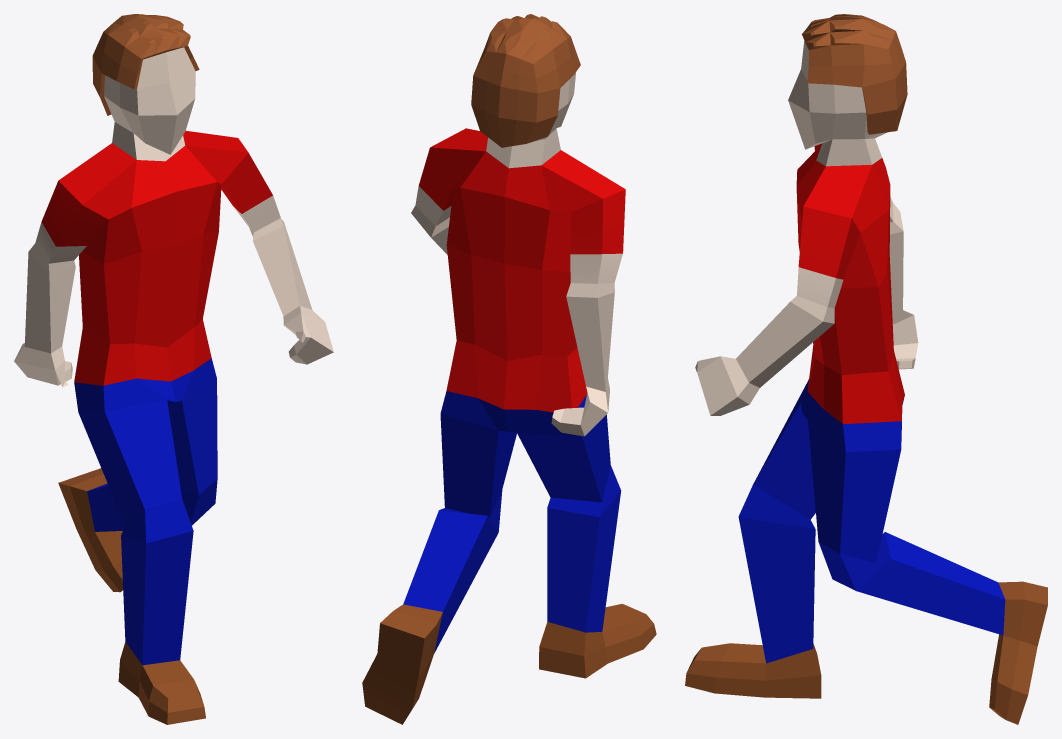
File: Human_walking_29.fbx
3 renders of one model, left to right at view 1: azimuth 30°, elevation 25°; view 2: azimuth 150°, elevation 25°; view 3: azimuth 270°, elevation 25°, orthographic. The views are drawn at different scales.
Visible parts, largest first — view 1: Person; view 2: Person; view 3: Person.
Part boxes in pixels (left/top/right/bottom): Person: left=14, top=14, right=333, bottom=724; Person: left=362, top=14, right=656, bottom=724; Person: left=685, top=14, right=1047, bottom=724.
Bounding box in the file's own units: 0.5852 × 1.55 × 0.7476.
